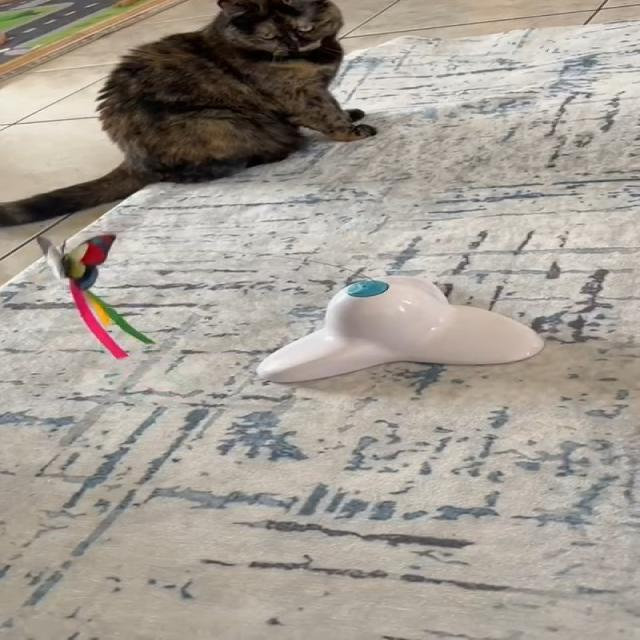authorized: (0, 0, 376, 228)
